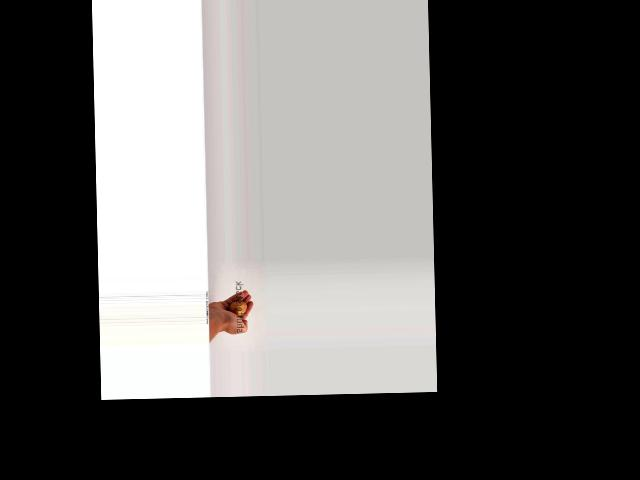egg: (228, 300, 246, 315)
